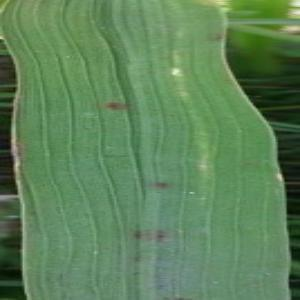0 BrownSpot: (102, 95, 134, 115), (145, 174, 171, 194), (204, 28, 227, 49), (126, 225, 148, 245), (151, 227, 171, 245), (128, 249, 146, 266), (151, 282, 171, 292), (130, 269, 144, 279), (159, 294, 173, 300), (176, 295, 188, 300)
